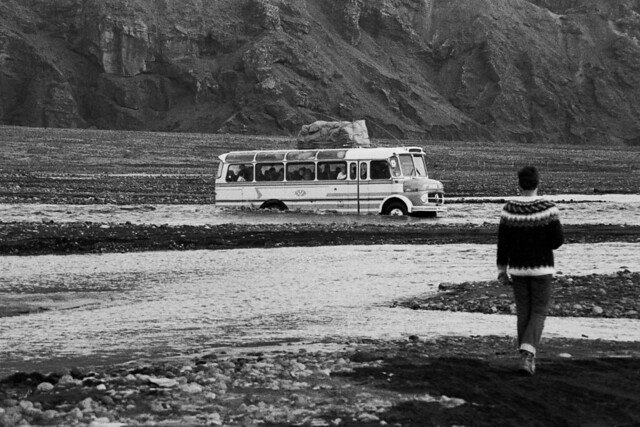bus: (215, 145, 445, 220)
